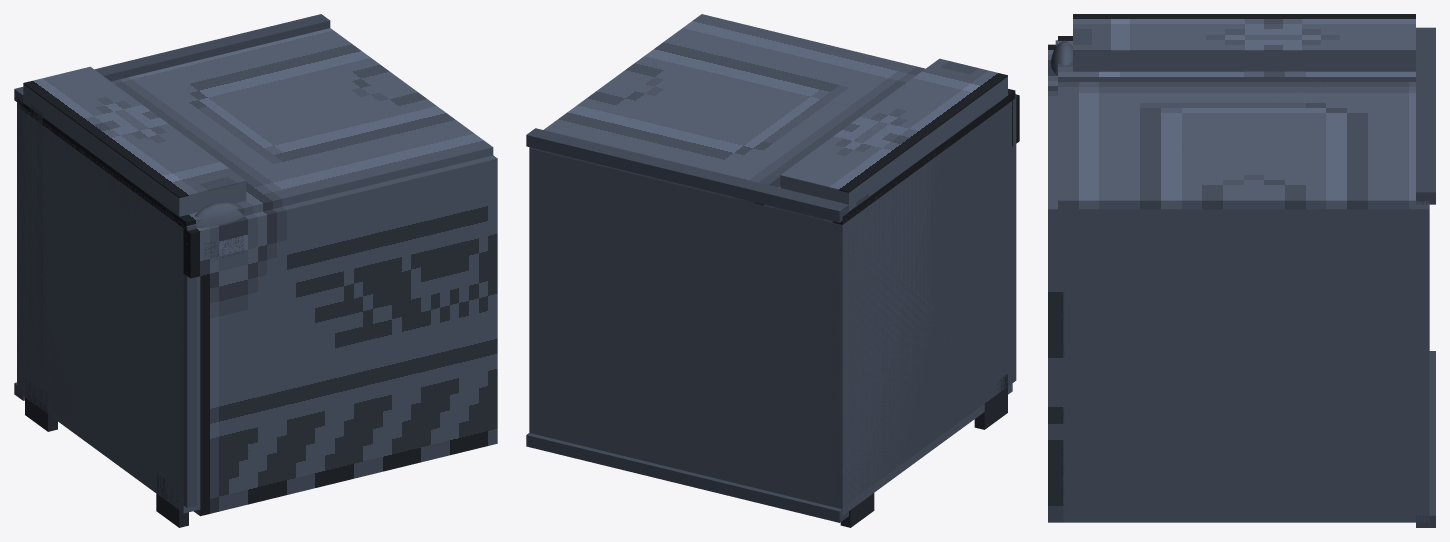
File: CMU3DFreightAU14ContainerTartarusLeftBlueWYWings.glb
The picture shows the model from 3 angles, left to right: view 1: azimuth 30°, elevation 25°; view 2: azimuth 150°, elevation 25°; view 3: azimuth 270°, elevation 25°; orthographic projection. The views are drawn at different scales.
Parts seen in each view (by area): view 1: painted front panel, closed cargo shell, source-painted lid, source-painted locking strap, outer end wall, outer lid strap, rear horizontal frame, corner lifting foot (×2), corner frame upright, rounded strap end; view 2: closed cargo shell, outer end wall, source-painted lid, rear horizontal frame (×2), source-painted locking strap, outer lid strap, corner lifting foot; view 3: closed cargo shell, source-painted lid, source-painted locking strap, outer lid strap, painted front panel, rear horizontal frame (×2), rounded strap end.
Part boxes in pixels (x1,y1,x2,y2): painted front panel: (183, 155, 497, 516); closed cargo shell: (17, 108, 200, 513); source-painted lid: (17, 28, 493, 229); source-painted locking strap: (23, 66, 246, 197); outer end wall: (17, 103, 196, 507); outer lid strap: (23, 84, 246, 216); rear horizontal frame: (14, 14, 330, 106); corner lifting foot (×2): (25, 379, 188, 527); corner frame upright: (30, 104, 42, 385); rounded strap end: (194, 202, 243, 227); closed cargo shell: (529, 147, 1012, 515); outer end wall: (832, 93, 1016, 507); source-painted lid: (529, 14, 1015, 224); rear horizontal frame (×2): (526, 128, 848, 522); source-painted locking strap: (780, 58, 1007, 192); outer lid strap: (780, 76, 1007, 211); corner lifting foot: (974, 374, 1007, 429); closed cargo shell: (1063, 209, 1429, 522); source-painted lid: (1058, 36, 1429, 209); source-painted locking strap: (1073, 14, 1415, 50); outer lid strap: (1073, 51, 1415, 71); painted front panel: (1048, 44, 1064, 522); rear horizontal frame (×2): (1416, 27, 1435, 527); rounded strap end: (1050, 40, 1072, 75).
Bounding box in the file's own units: 1 × 1.03 × 0.995.
Materials: 10 (3 with a texture image).
